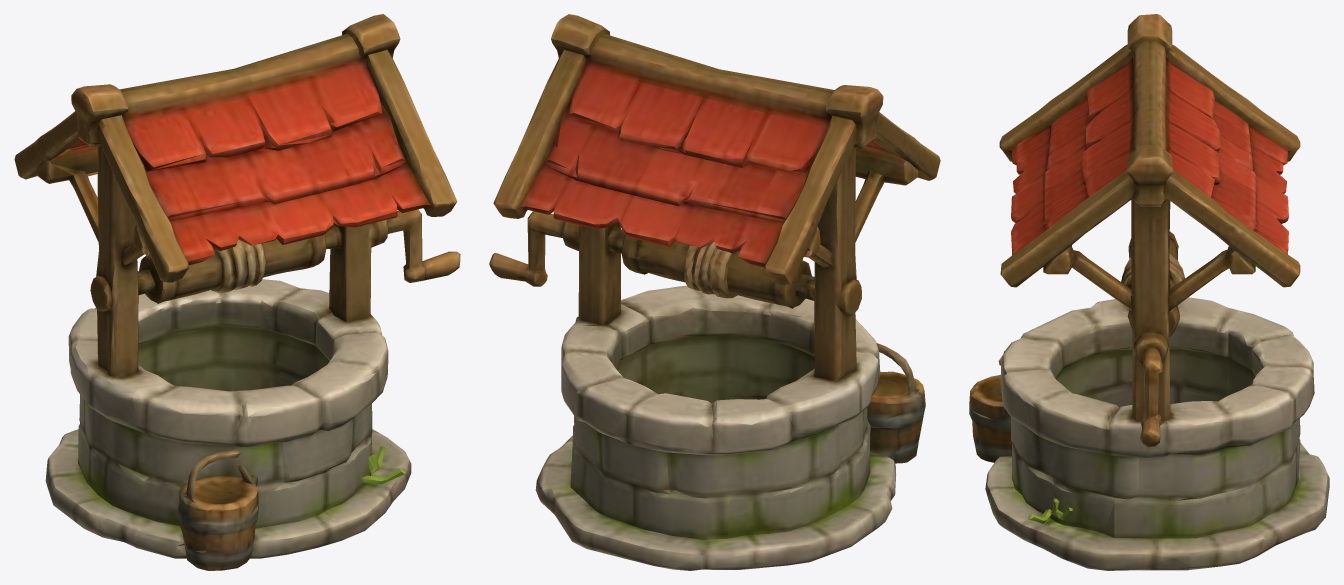
File: tiled_well.glb
3 views of the same model, side by side, from view 1: azimuth 30°, elevation 25°; view 2: azimuth 150°, elevation 25°; view 3: azimuth 270°, elevation 25° (orthographic). The views are drawn at different scales.
Parts seen in each view (by area): view 1: turn; view 2: turn; view 3: turn.
Part boxes in pixels (x1,y1,x2,y2): turn: (14, 14, 460, 570); turn: (489, 14, 940, 570); turn: (969, 14, 1329, 570).
Size of the model in its own units: 2.12 by 2.3 by 1.79.
1 material, 1 textured.
